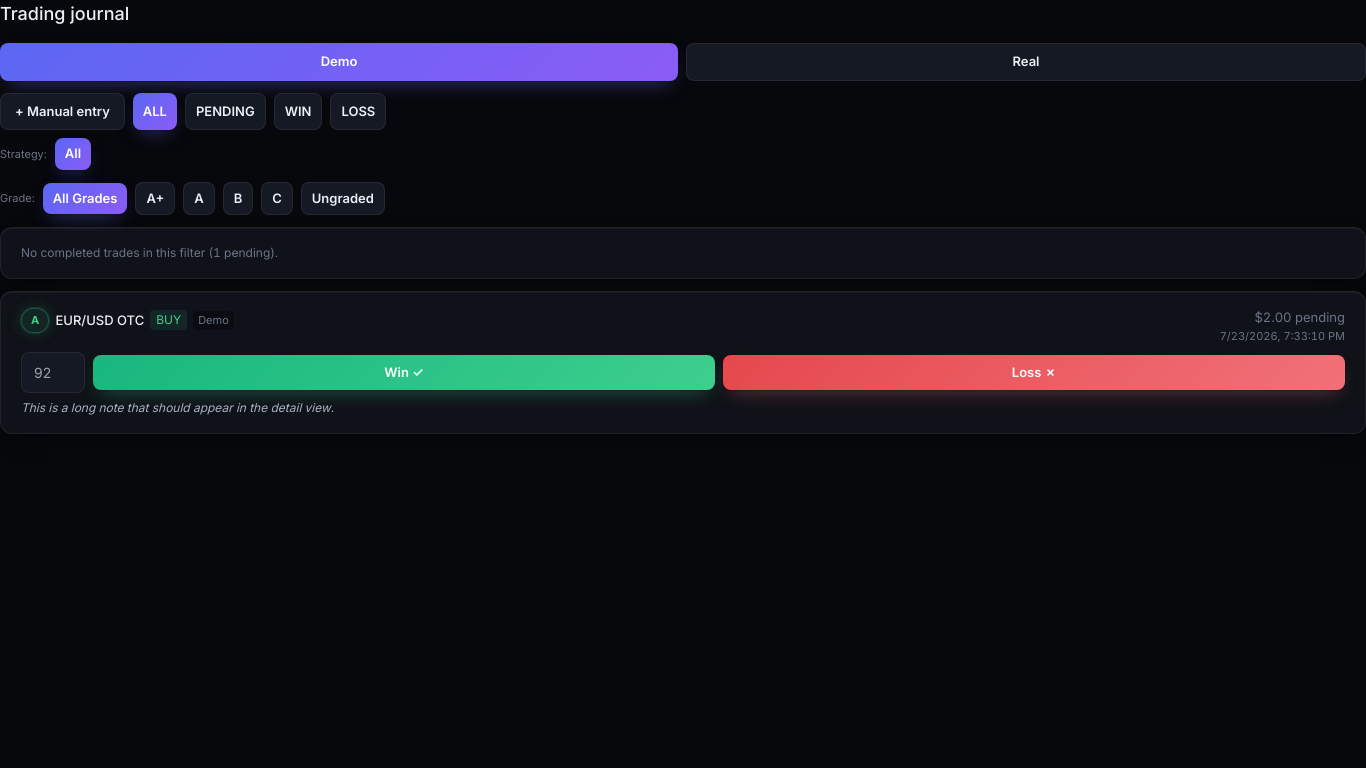
Test: Journal interactions › opens a detail modal when a journal card is clicked
Click the text "EUR/USD OTC".
click(100, 320)  # box top-left (55, 310), bottom-right (144, 330)
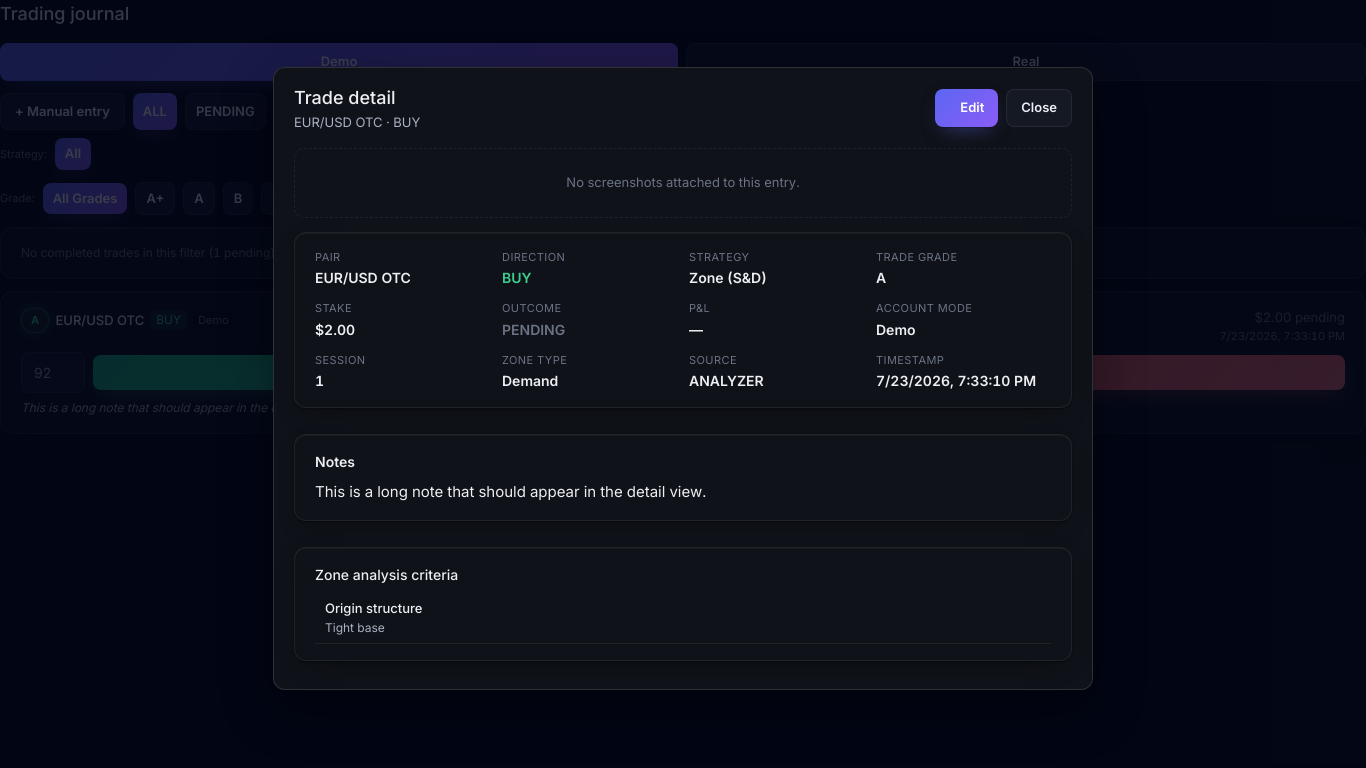
Result: the text "Trade detail" is shown at top-left (294, 86), bottom-right (396, 108)
Result: the text "Origin structure" is shown at top-left (325, 599), bottom-right (422, 618)
Result: the button "Edit" is shown
Click the button "Edit".
click(967, 108)  # box top-left (935, 89), bottom-right (998, 126)
(page scrolled)
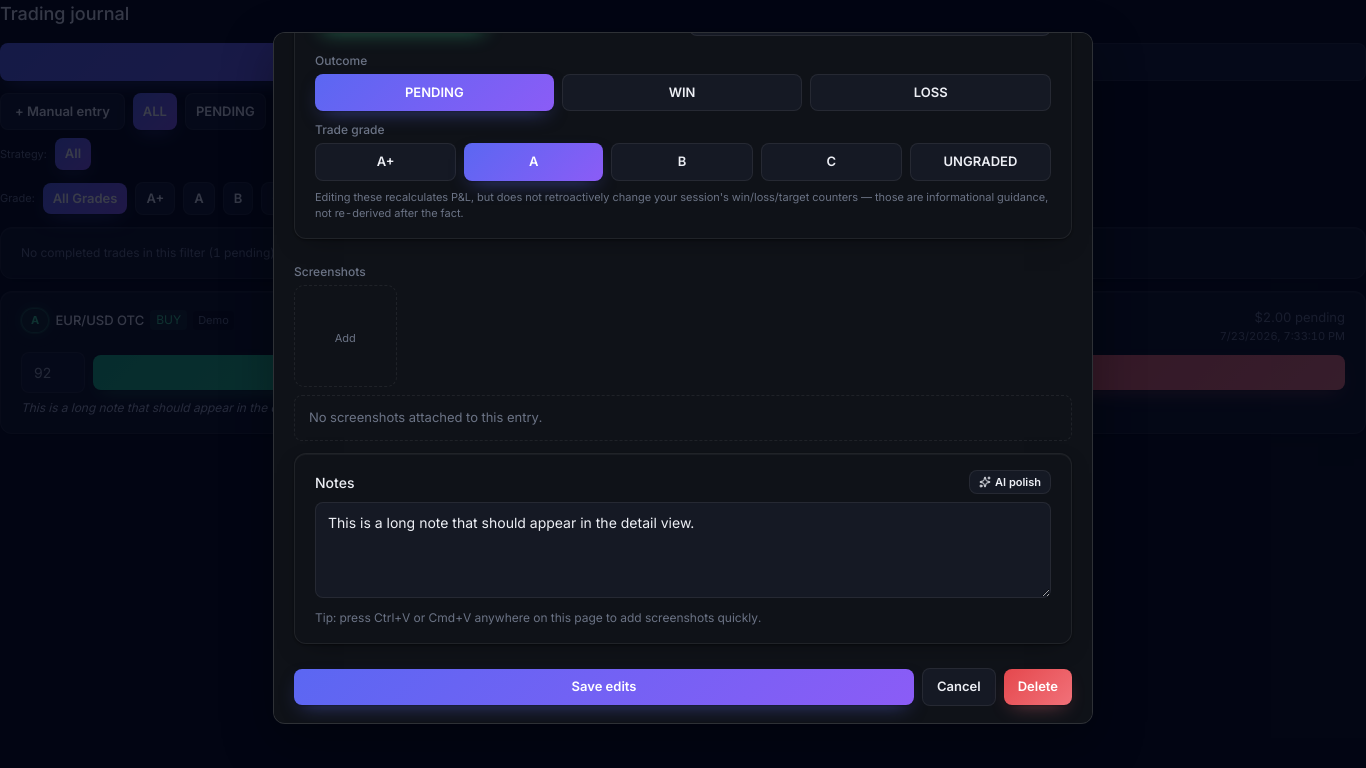
Result: the text box named "Journal notes" is shown at top-left (315, 502), bottom-right (1051, 598)
Canceling out of Edit returns to the read-only Detail view, not the list.
Click the button "Cancel".
click(959, 687)  # box top-left (922, 668), bottom-right (996, 706)
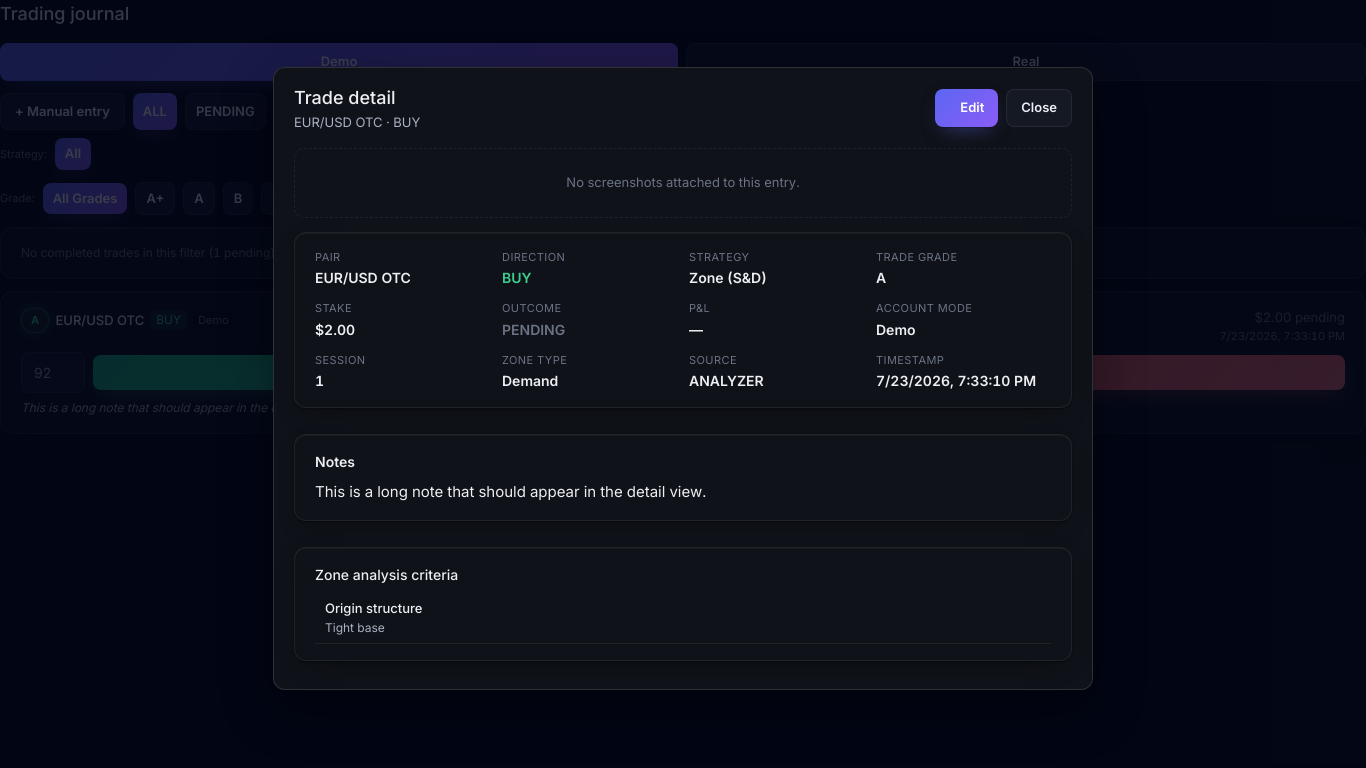
Expected: the 1st text "This is a long note that should appear in the detail view." is shown, top-left (21, 400), bottom-right (334, 415)
Result: the text "Trade detail" is shown at top-left (294, 86), bottom-right (396, 108)
